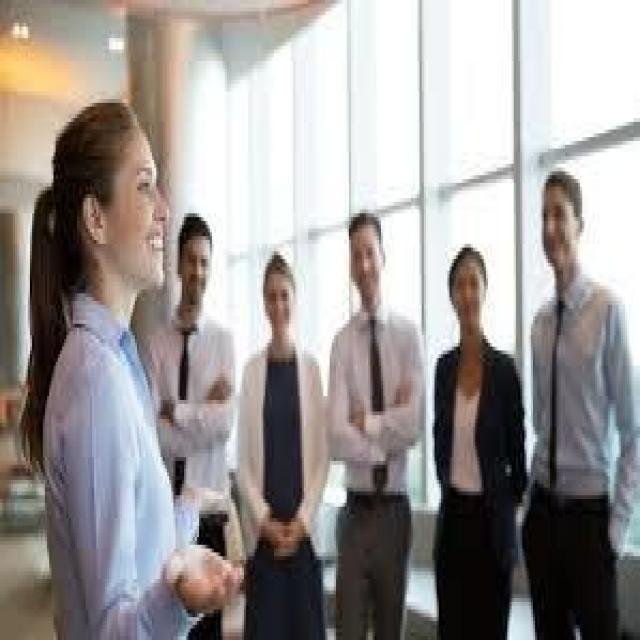person: (13, 42, 244, 621), (516, 153, 636, 636), (308, 164, 426, 636), (415, 236, 512, 636), (137, 149, 229, 560), (238, 244, 321, 636)
